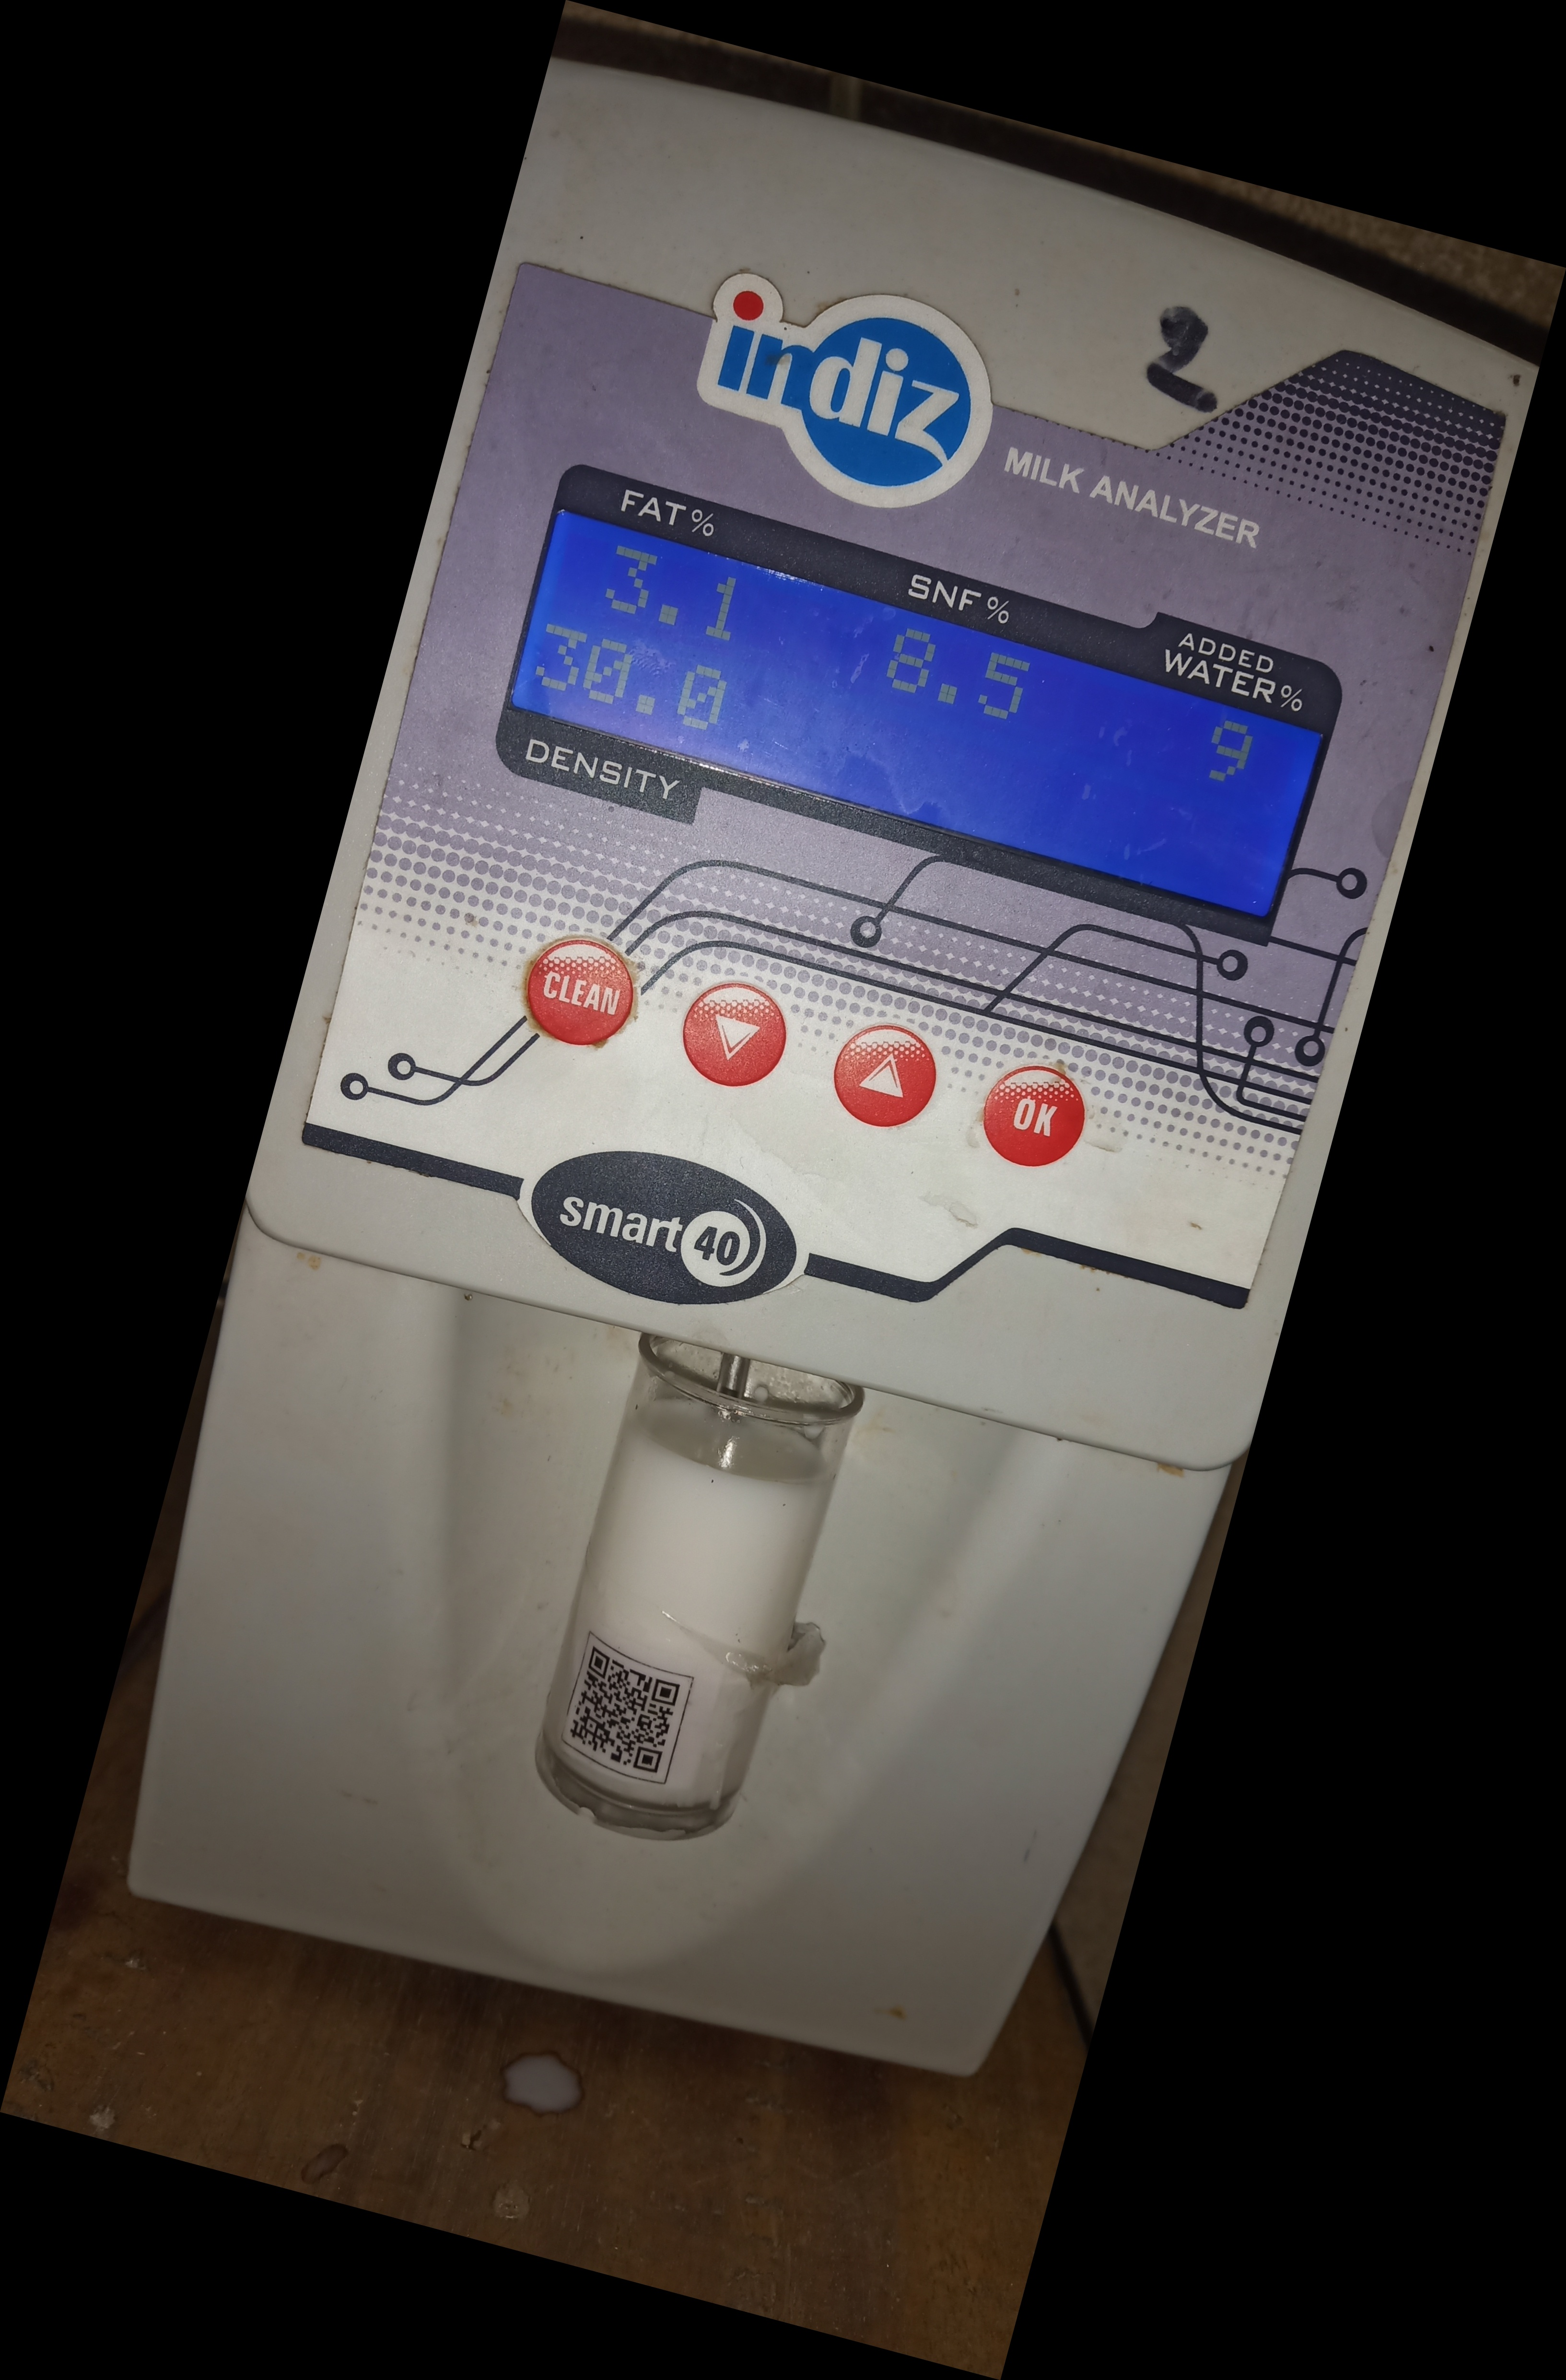lcd: (467, 463, 1356, 987)
qr: (552, 1636, 703, 1795)
